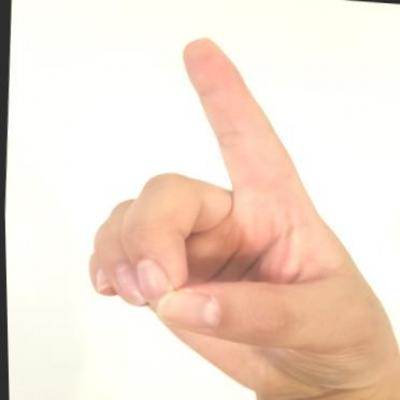hand: (69, 20, 399, 399)
